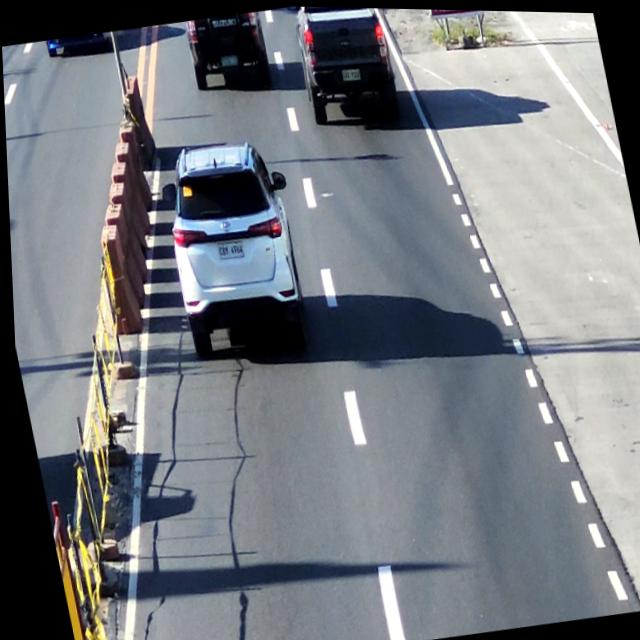Car: (153, 132, 307, 356), (292, 5, 405, 136), (183, 9, 273, 93)
License-Plate: (213, 236, 249, 268), (338, 65, 362, 84), (218, 53, 241, 71)
